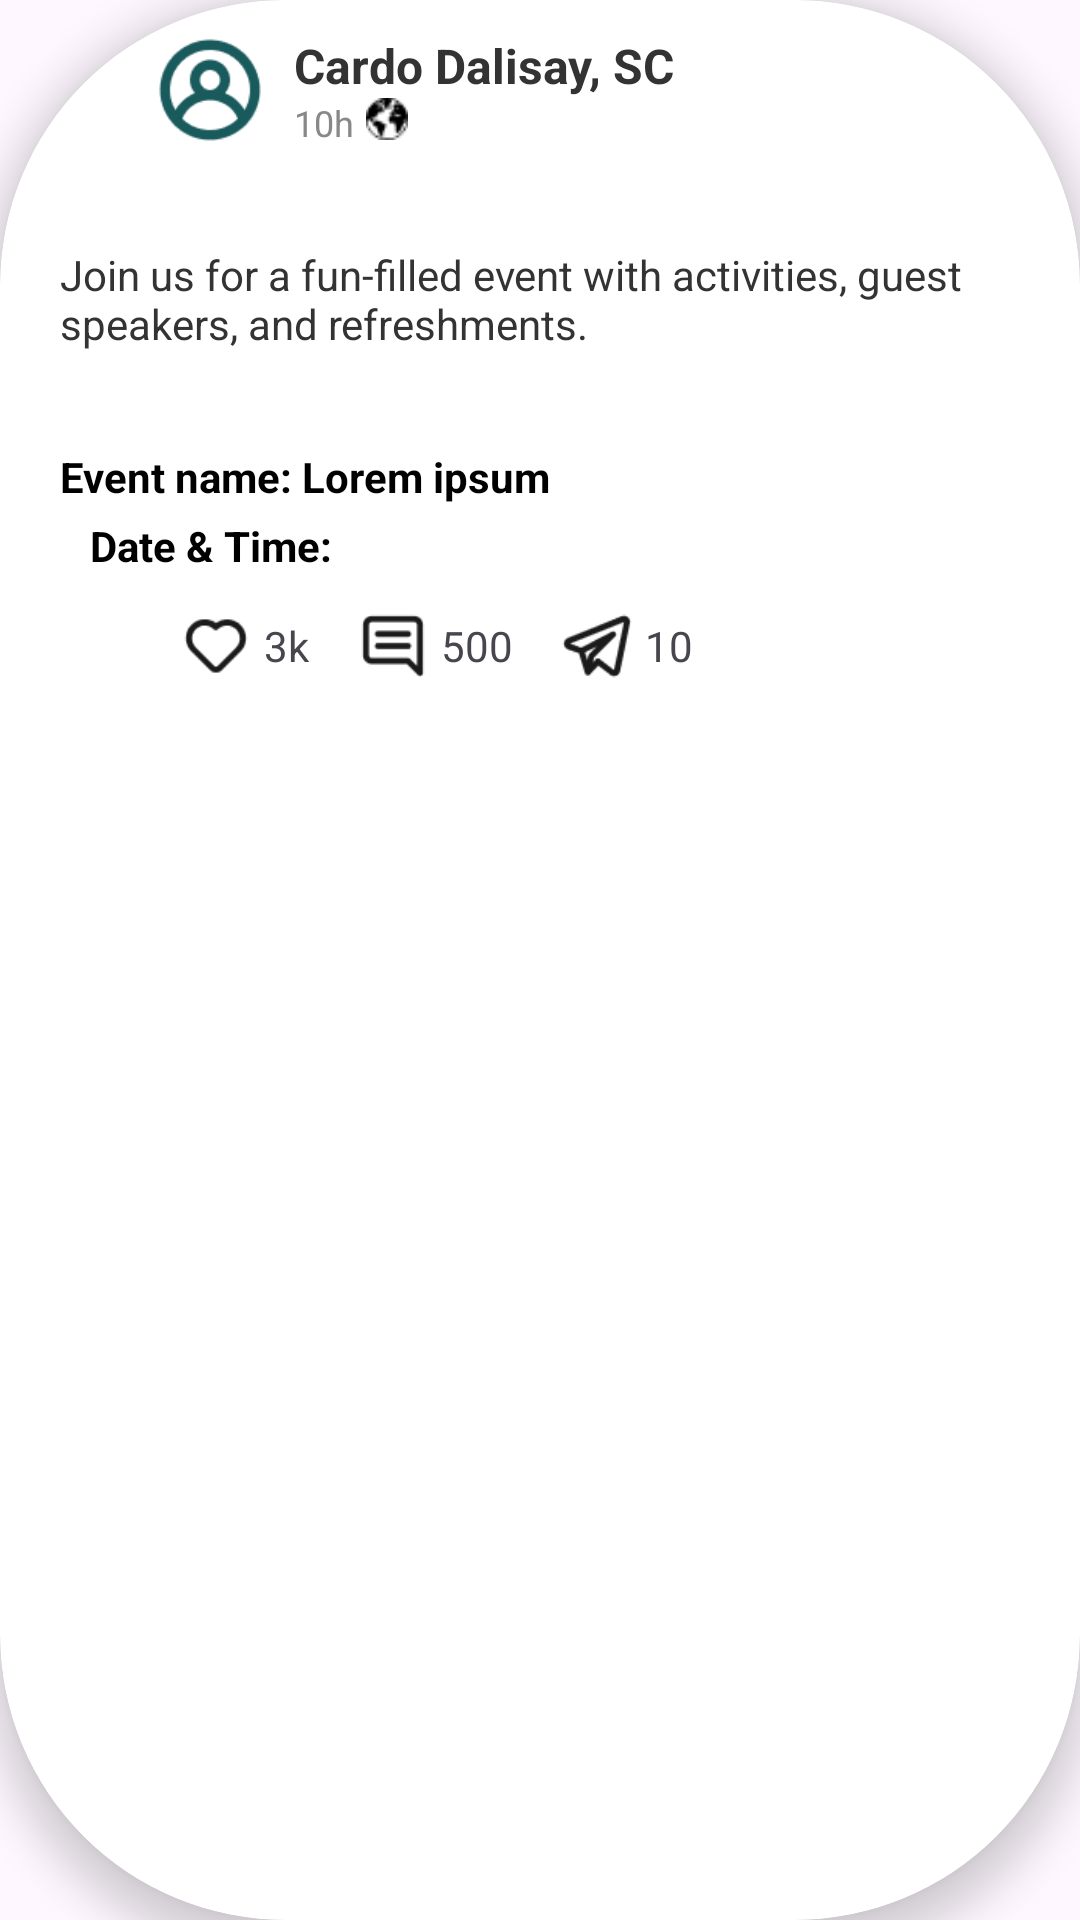

Icons on this 1080w x 1920h Android screen, each with its box as rect(x1, y1, x2, y2):
globe: rect(366, 98, 408, 140)
heart: rect(185, 619, 247, 673)
person: rect(159, 39, 261, 141)
text: rect(362, 615, 424, 677)
